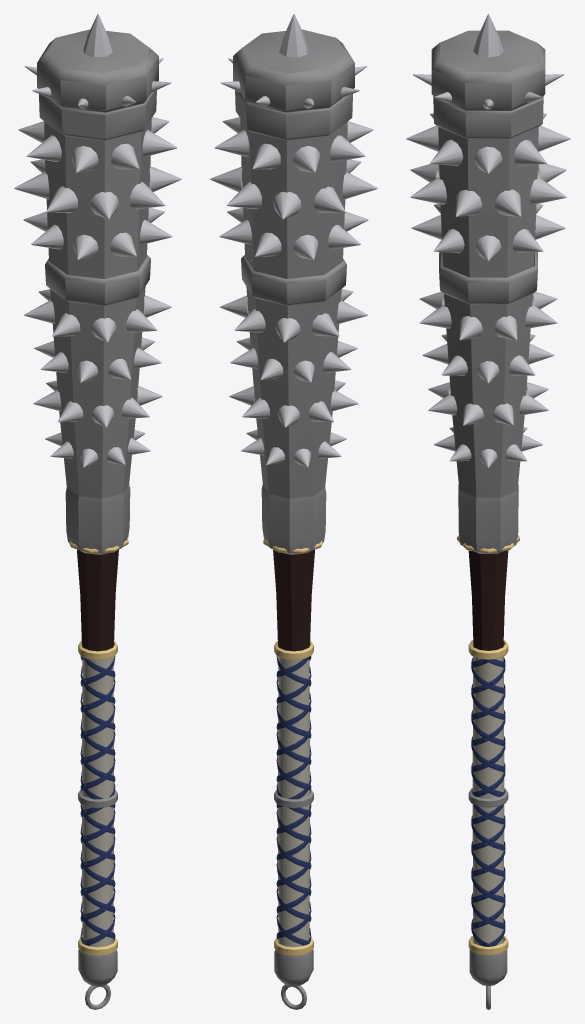
Rendered from gear_edo_kanabo.glb.
The picture shows the model from 3 angles, left to right: view 1: azimuth 30°, elevation 25°; view 2: azimuth 150°, elevation 25°; view 3: azimuth 270°, elevation 25°; orthographic projection.
Parts seen in each view (by area): view 1: gear_edo_kanabo; view 2: gear_edo_kanabo; view 3: gear_edo_kanabo.
Part boxes in pixels (bbox=[...]): gear_edo_kanabo: bbox=[14, 14, 181, 1009]; gear_edo_kanabo: bbox=[210, 14, 377, 1009]; gear_edo_kanabo: bbox=[406, 14, 570, 1009].
Bounding box in the file's own units: 0.2174 × 1.45 × 0.2174.
